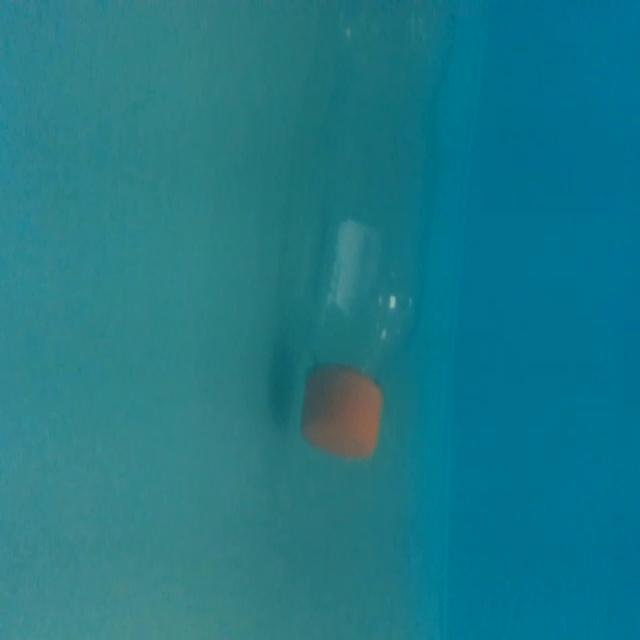plastic bottle: (284, 3, 460, 464)
